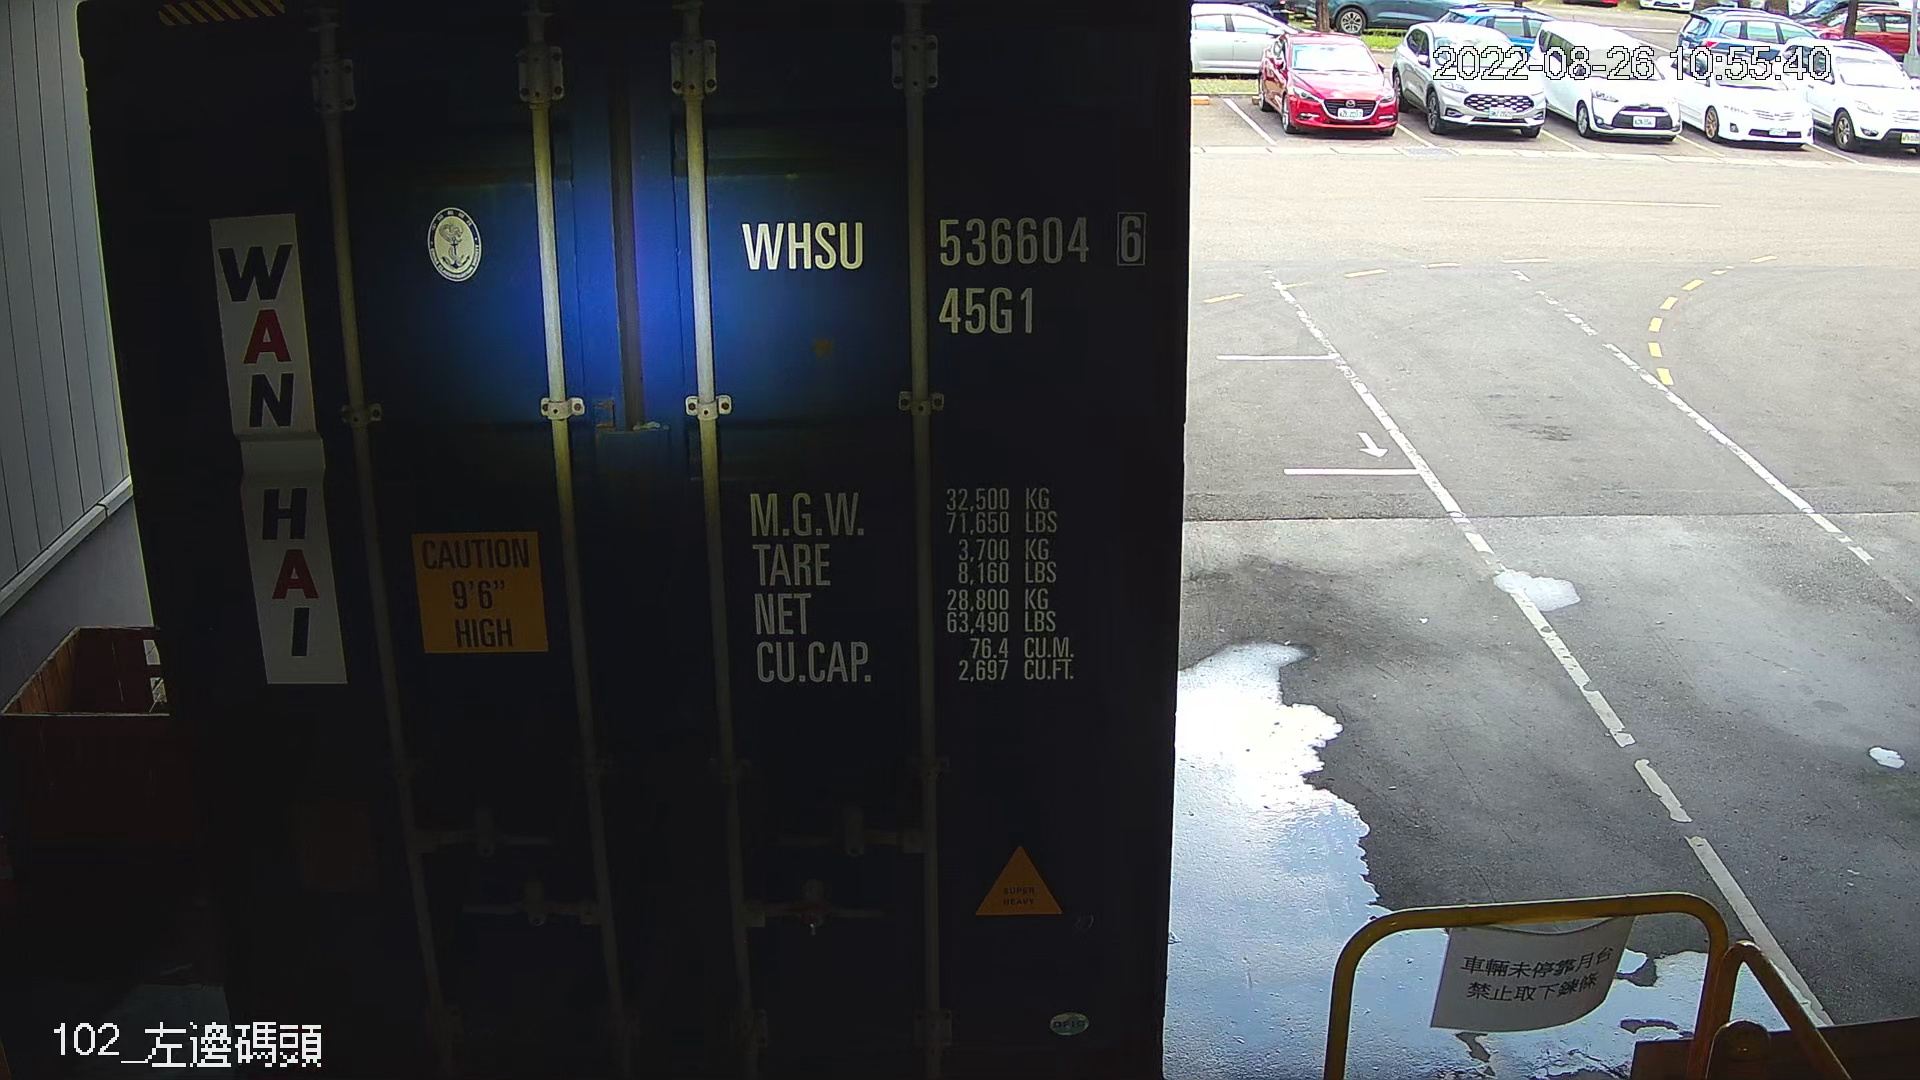container: (729, 195, 1162, 349)
